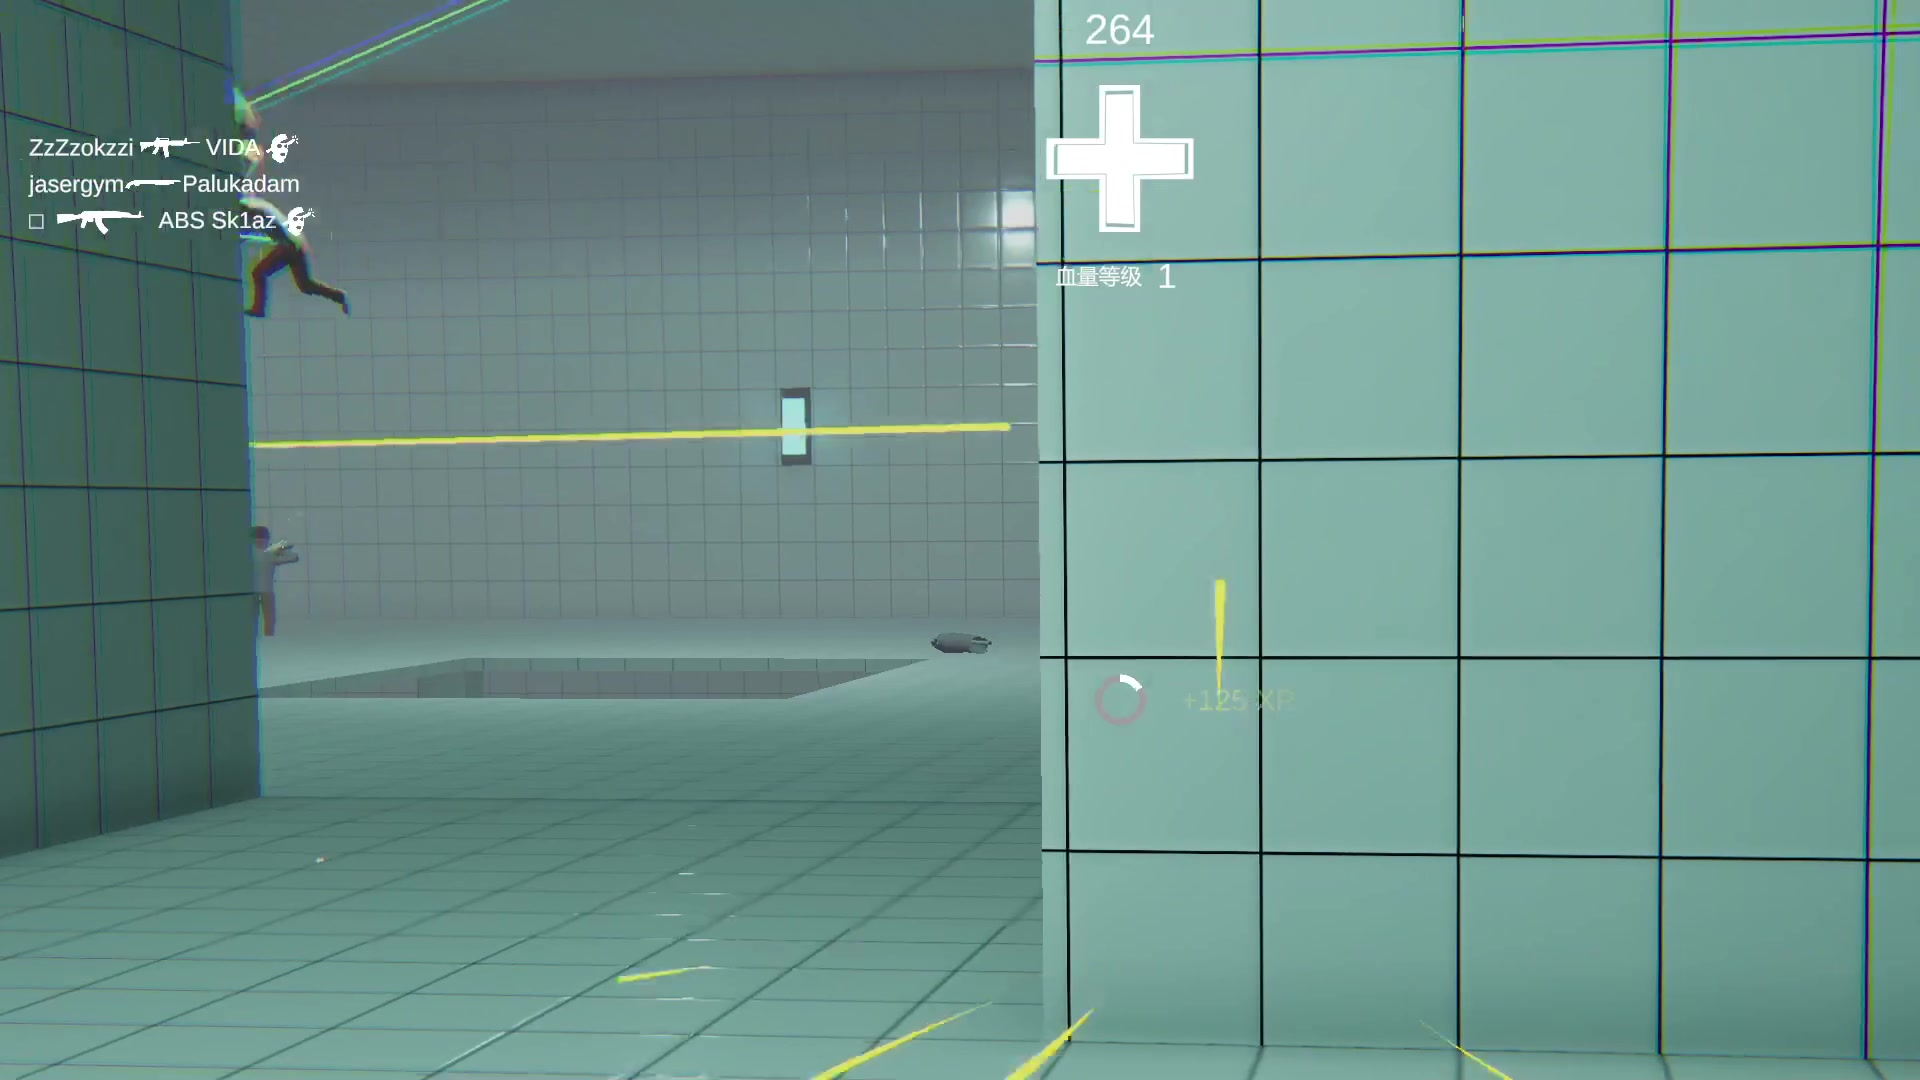human: (244, 519, 300, 640)
